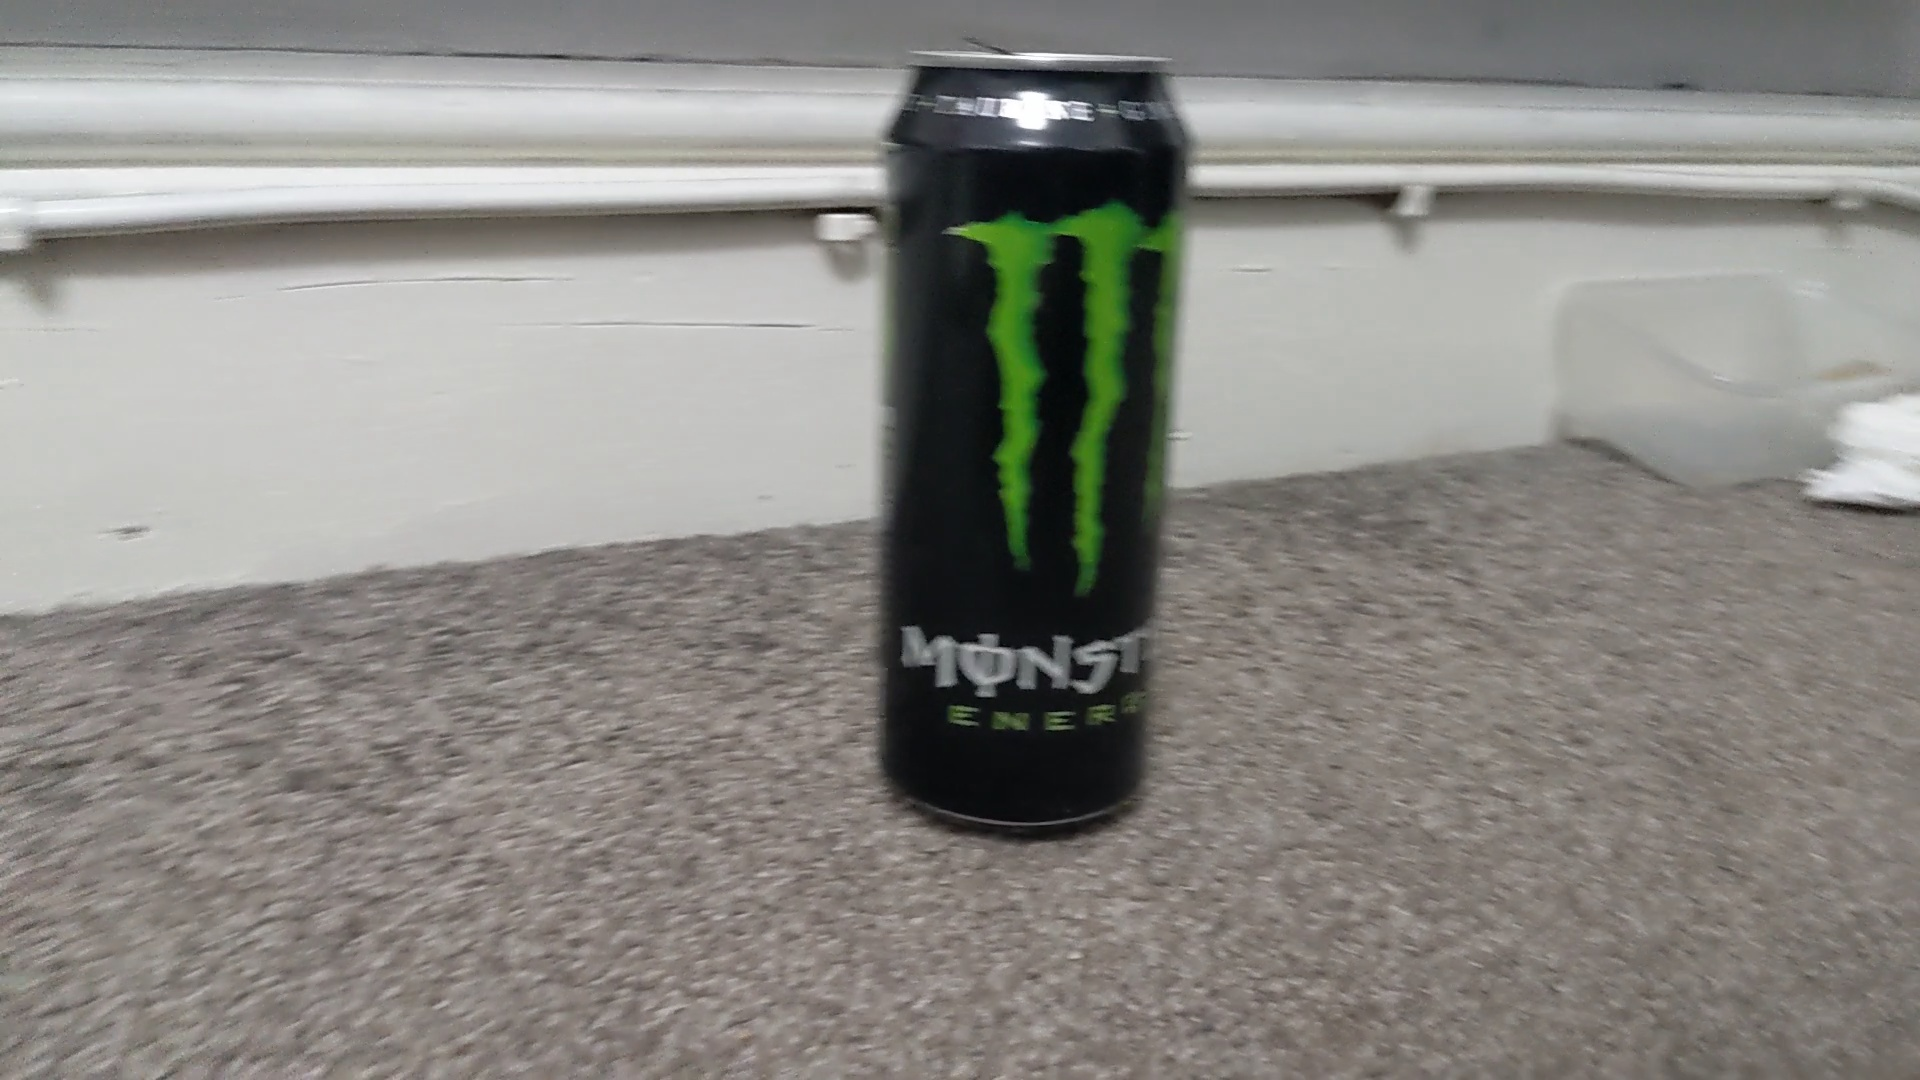monster-original: (864, 40, 1196, 840)
